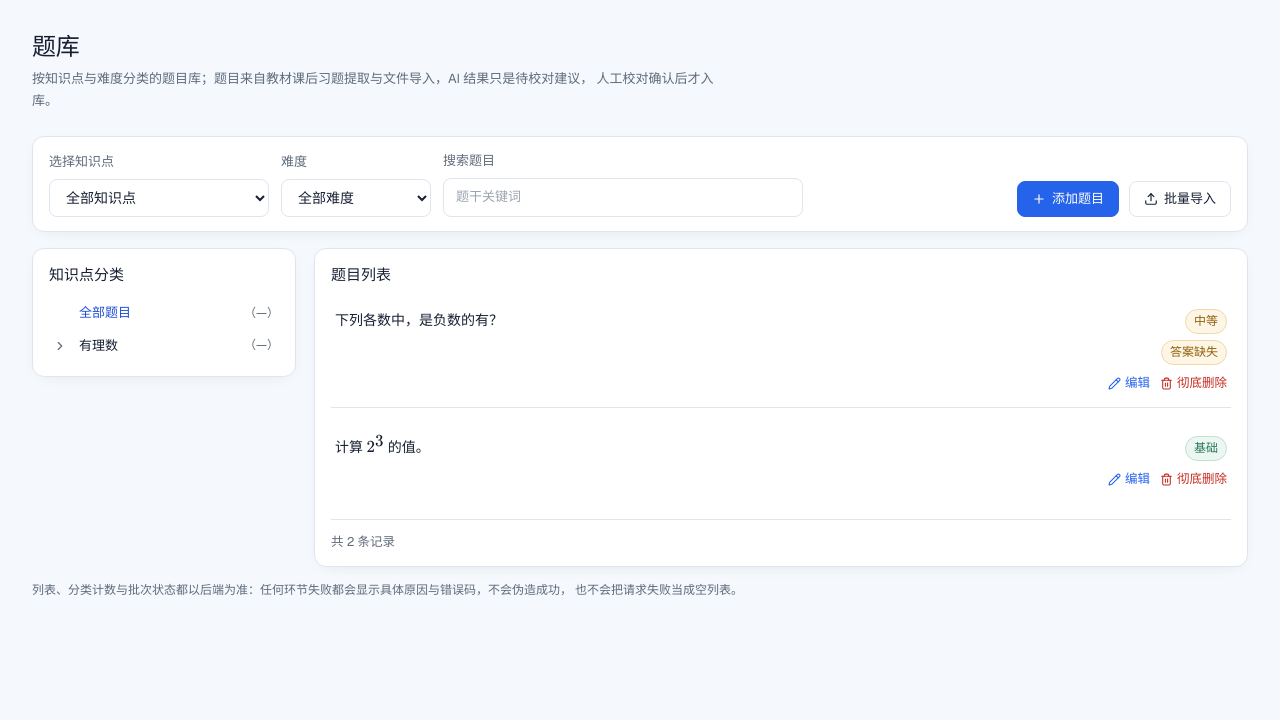
Test: 题库首页：题目行操作 › 「编辑」直接打开编辑题目抽屉
expect the text "下列各数中，是负数的有？" is shown: met, box x1=335 y1=311 x2=503 y2=329
Click the button "编辑" below "答案缺失".
click(1129, 383)  # box x1=1108 y1=371 x2=1150 y2=395
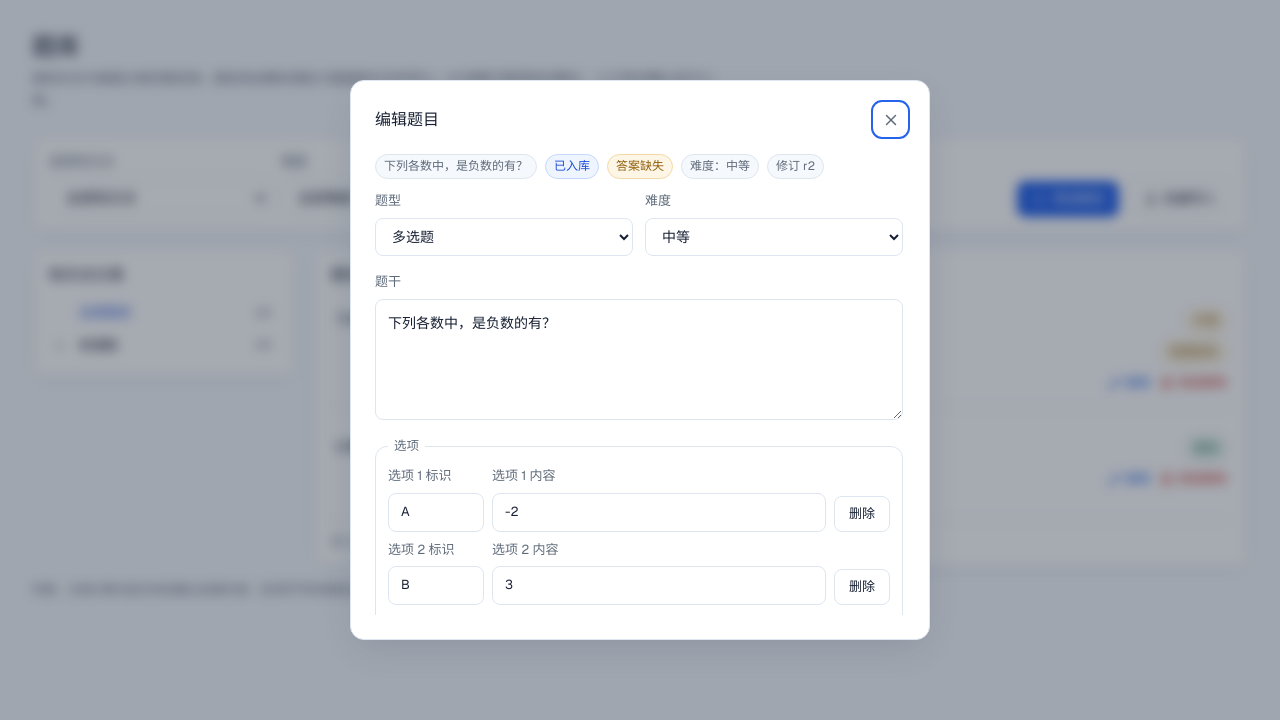
expect the text box labelled "题干" holds "下列各数中，是负数的有？": met, box x1=375 y1=299 x2=903 y2=420
